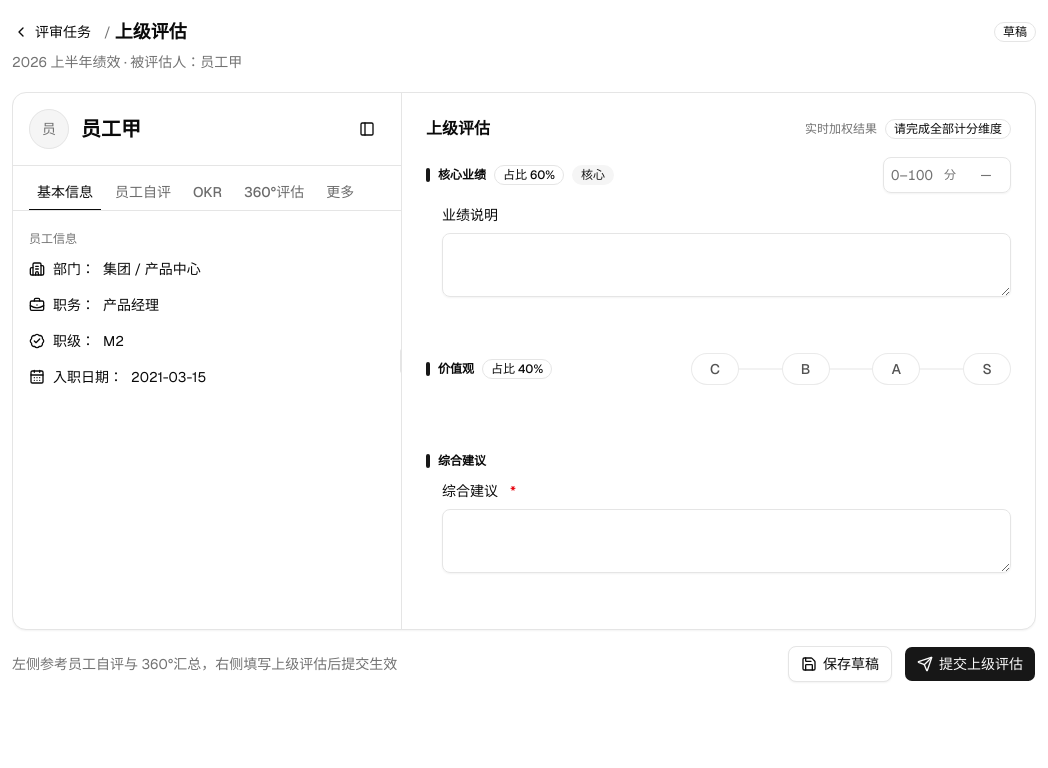
ManagerReviewFill 关键流程 › 展示新版混合计分维度和字段，并提交维度回答且不呈现评估项
Expected: the text "集团 / 产品中心" is shown, x1=103 y1=259 x2=201 y2=279
Expected: the text "M2" is shown, x1=103 y1=331 x2=124 y2=351
Click the tab "员工自评" at (143, 192), box x1=106 y1=178 x2=180 y2=206
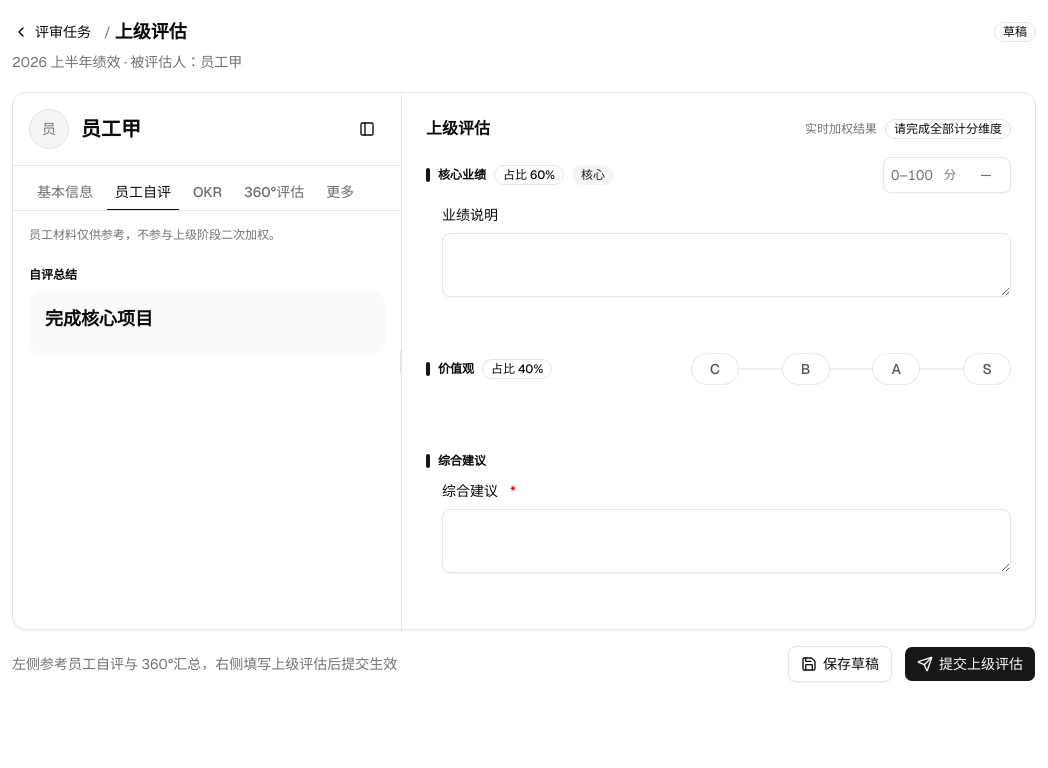
Expected: the text "占比 60%" is shown, x1=494 y1=165 x2=564 y2=185
Now the heading "完成核心项目" is shown, box x1=45 y1=307 x2=153 y2=330
Type "95" into the field named "核心业绩" at (912, 175), box x1=884 y1=157 x2=940 y2=193
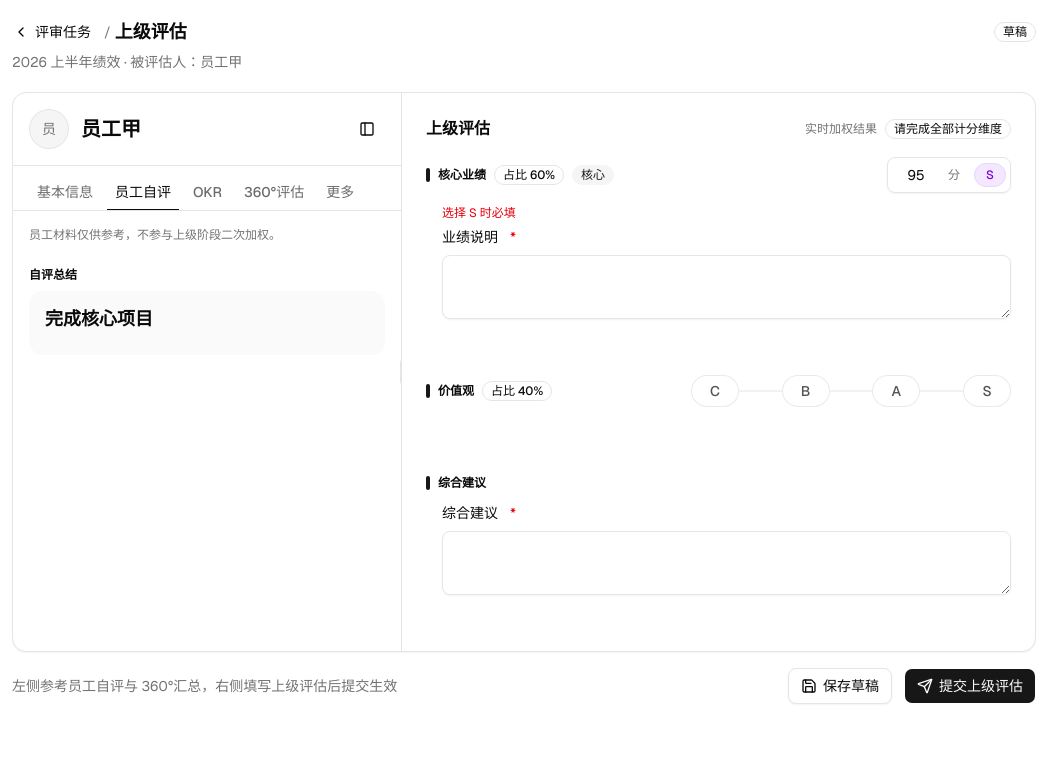
Now the text "选择 S 时必填" is shown, box x1=442 y1=205 x2=516 y2=221
Type "超额达成" into the text box named "业绩说明" at (726, 287), box x1=442 y1=255 x2=1011 y2=319
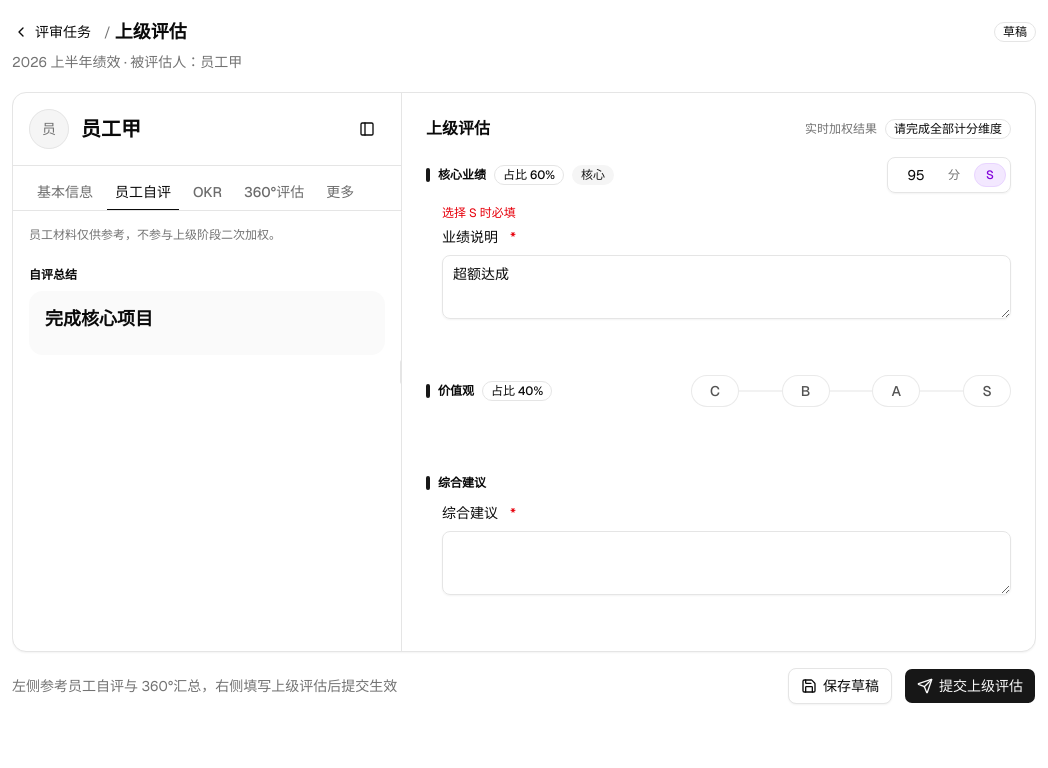
Click the radio button named "A · 优秀" at (896, 391), box x1=872 y1=375 x2=920 y2=407
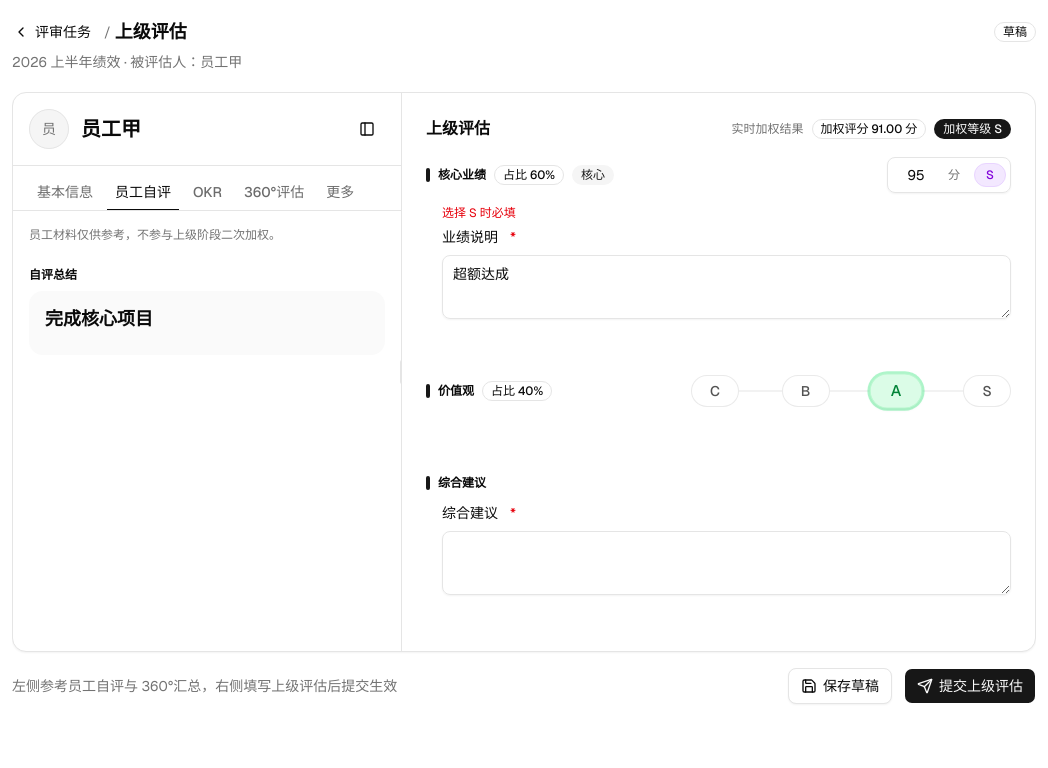
Now the text "加权评分 91.00 分" is shown, box x1=812 y1=119 x2=926 y2=139
Now the text "加权等级 S" is shown, box x1=934 y1=119 x2=1011 y2=139
Type "建议承担更复杂项目" into the text box named "综合建议" at (726, 563), box x1=442 y1=531 x2=1011 y2=595
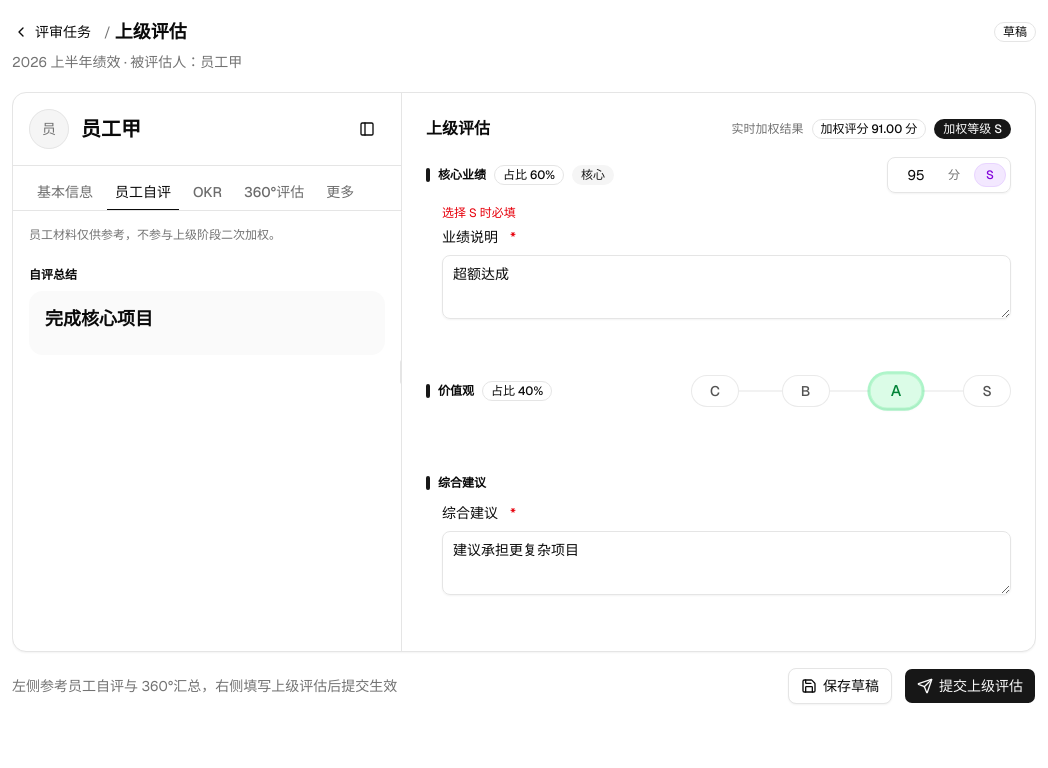
Click the button "提交上级评估" at (970, 686), box x1=904 y1=668 x2=1036 y2=704
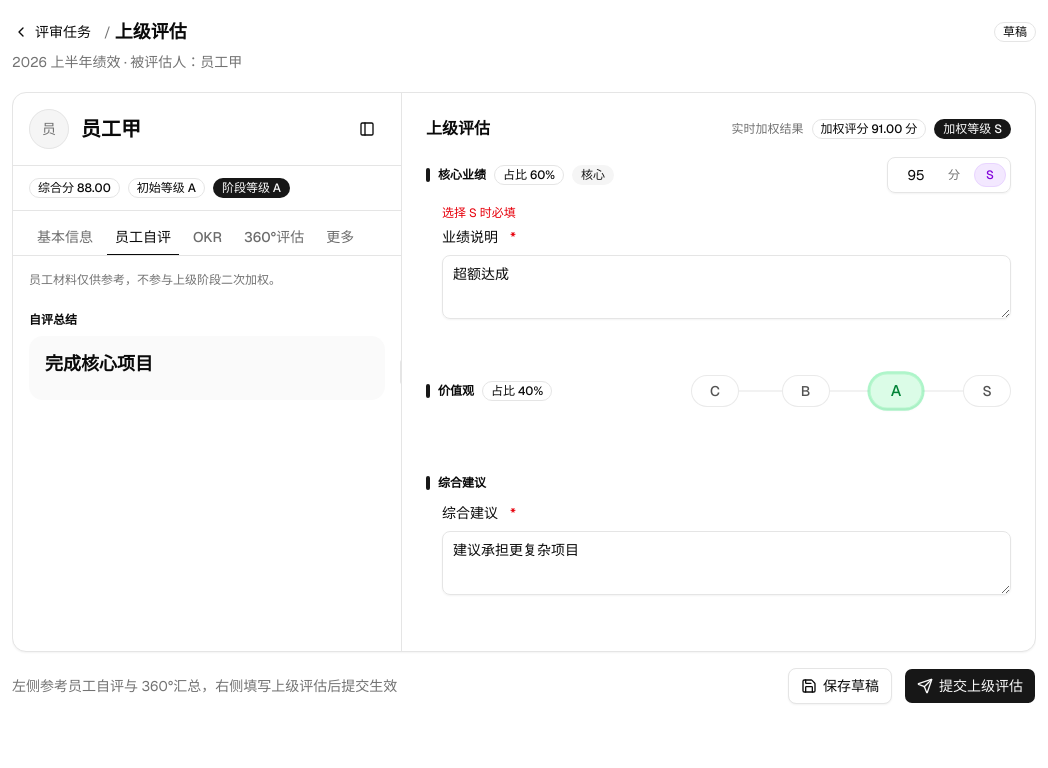
Now the text "初始等级 A" is shown, box x1=128 y1=178 x2=205 y2=198
